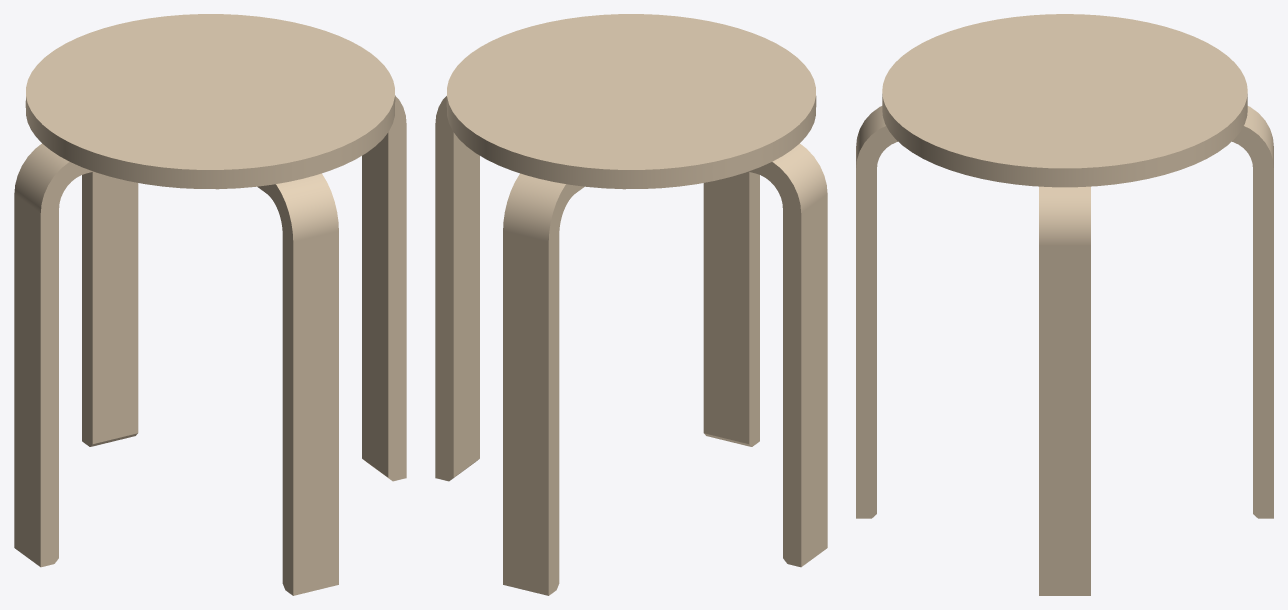
File: 646_スツール.glb
3 views of the same model, side by side, from view 1: azimuth 30°, elevation 25°; view 2: azimuth 150°, elevation 25°; view 3: azimuth 270°, elevation 25° (orthographic).
Visible parts, largest first — view 1: Body1; view 2: Body1; view 3: Body1.
Boxes of the visible parts, left/top/right/bottom form: Body1: left=14, top=14, right=406, bottom=595; Body1: left=435, top=14, right=827, bottom=595; Body1: left=856, top=14, right=1273, bottom=595.
Size of the model in its own units: 0.4 by 0.44 by 0.4.
